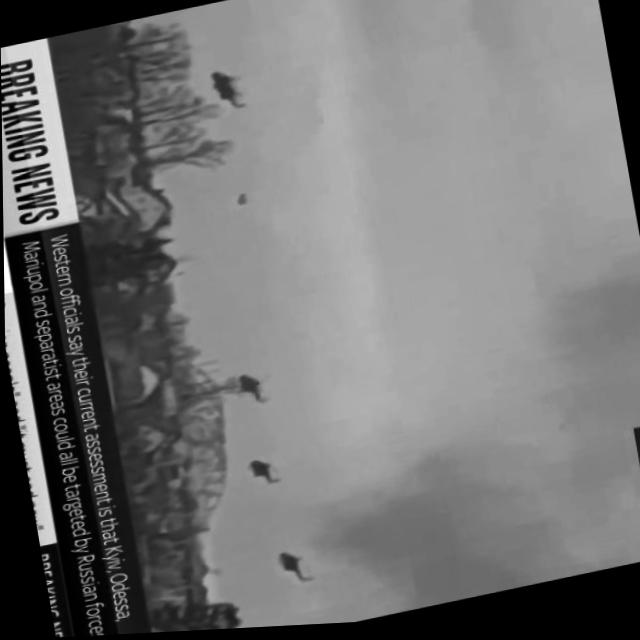helikopter: (247, 539, 334, 605), (225, 442, 300, 506), (218, 360, 288, 423)
